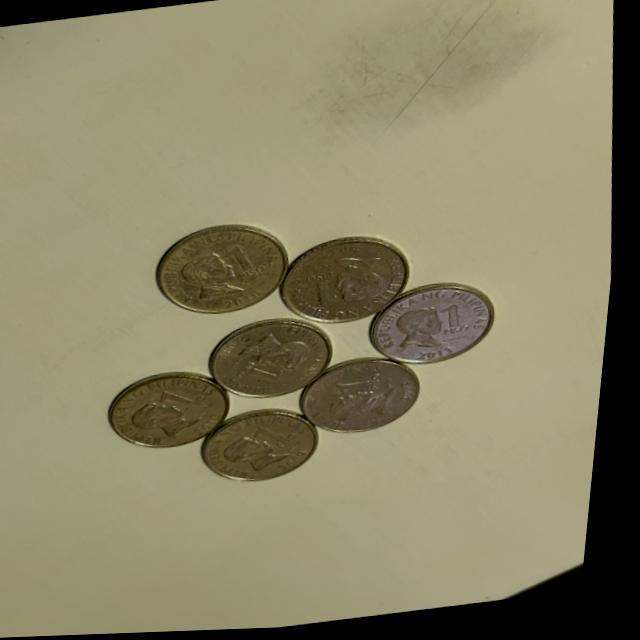1_Old_Front: (161, 383, 220, 423), (227, 238, 278, 284), (233, 355, 290, 391), (309, 267, 348, 313), (255, 421, 311, 453), (334, 374, 394, 402), (443, 302, 480, 341)
